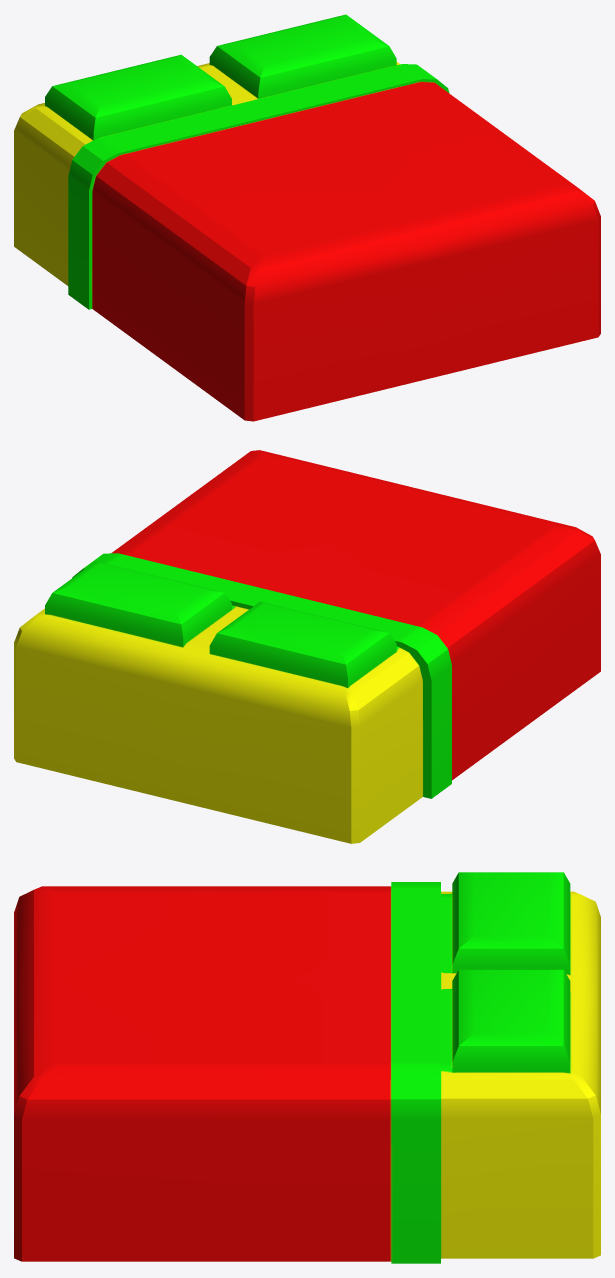
The model's file is bed_BM.fbx.
3 renders of one model, top to bottom at view 1: azimuth 30°, elevation 25°; view 2: azimuth 150°, elevation 25°; view 3: azimuth 270°, elevation 25°, orthographic. The views are drawn at different scales.
Visible parts, largest first — view 1: Bed_LP; view 2: Bed_LP; view 3: Bed_LP.
Boxes of the visible parts, left/top/right/bottom form: Bed_LP: left=14, top=14, right=600, bottom=421; Bed_LP: left=14, top=450, right=600, bottom=843; Bed_LP: left=14, top=872, right=600, bottom=1263.
Bounding box in the file's own units: 2.62 × 1.16 × 3.03.
Materials: 1 (1 with a texture image).
